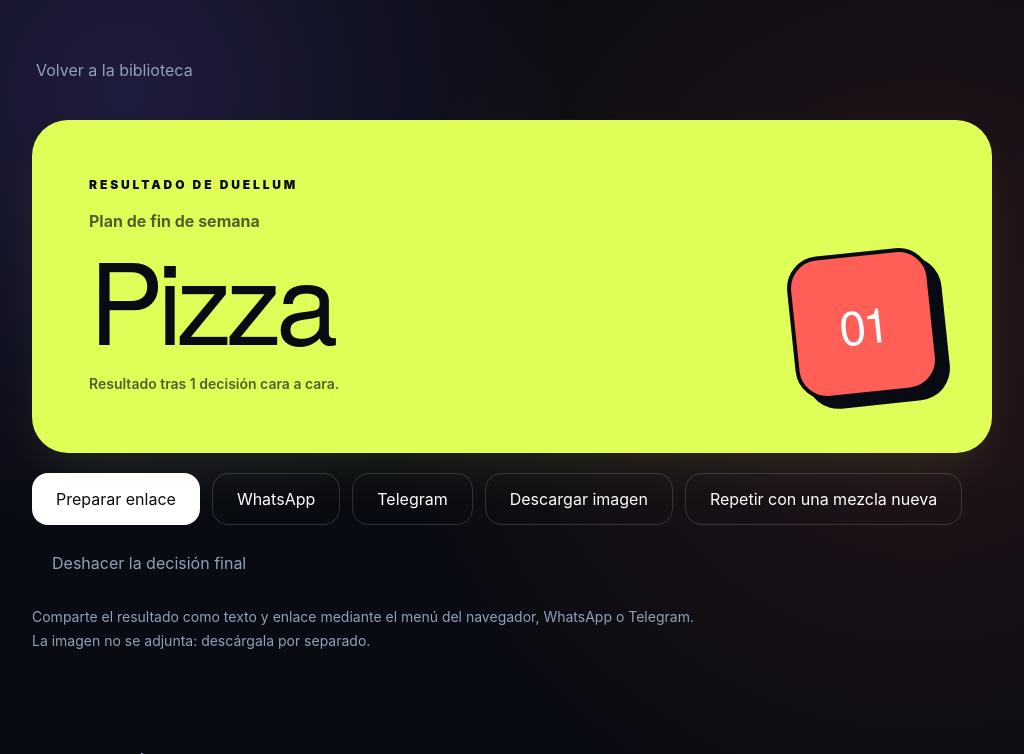
Test: ResultScreen sharing controls › does not mint on render, image preparation, or local download
Click the button "Descargar imagen".
click(579, 499)  # box x1=485 y1=473 x2=673 y2=525
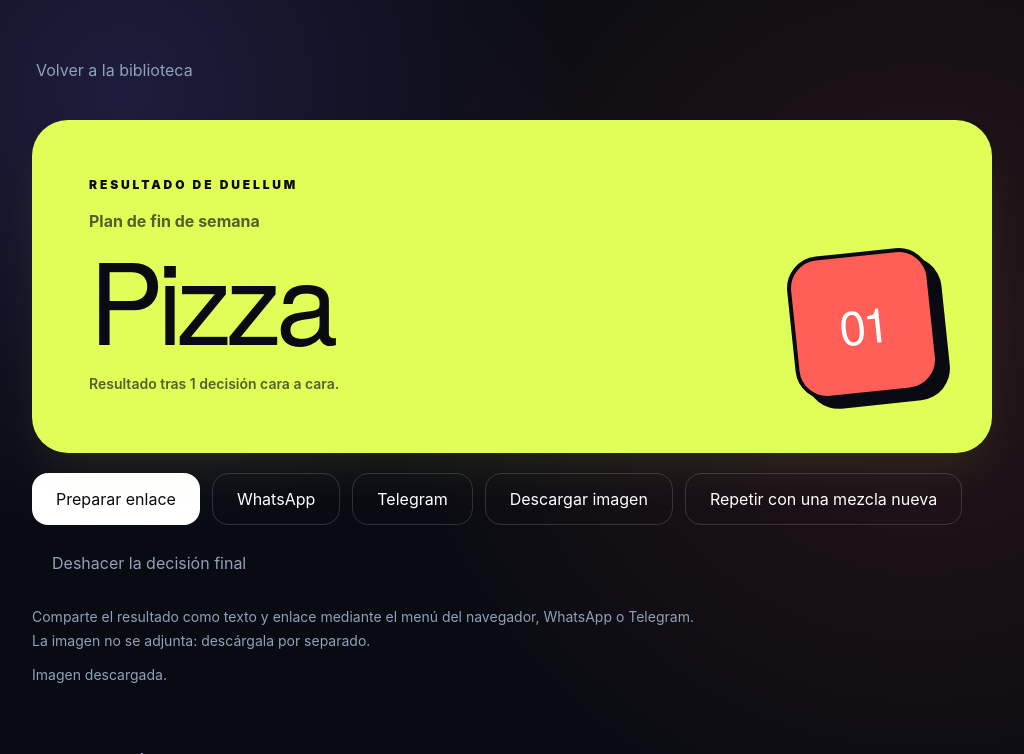
Check: the message reads "Imagen descargada.", box x1=32 y1=666 x2=167 y2=683
